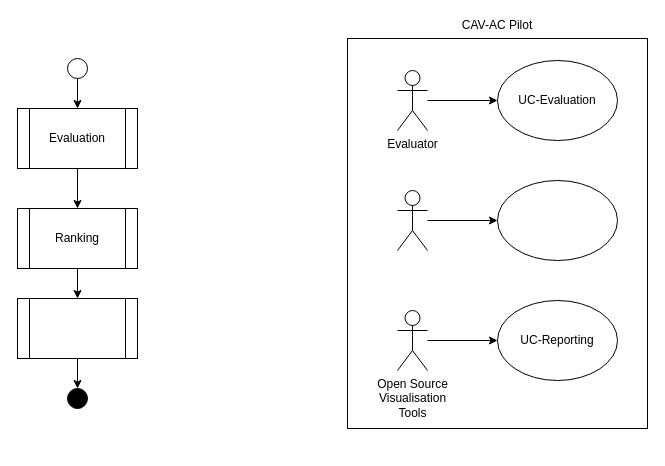
Image size: 665x466. Some labels were removed from this diagram. The shapes that lost their labels are listed below. From the top down, each one's centre as x and y in pixels, then its label:
At (412,220): "ELECTRE-II-based Algorithm".
At (557,220): "UC-Ranking".
At (77,328): "Reporting".
